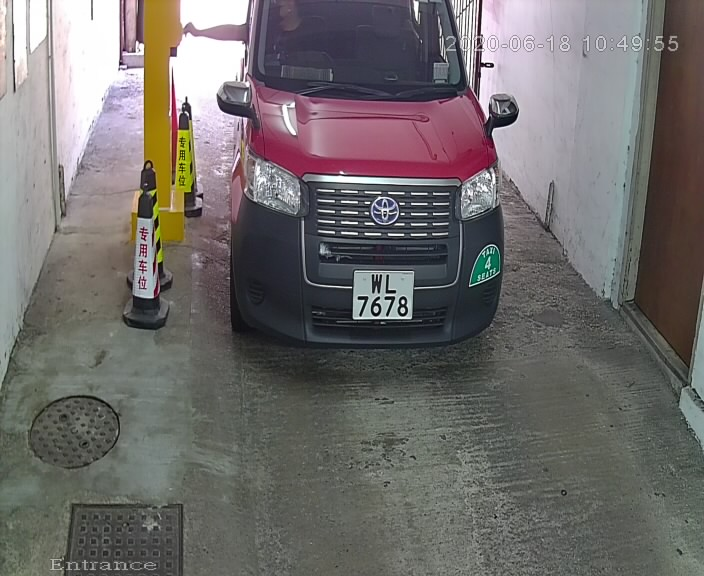taxi: (204, 2, 526, 386)
taxi_mark: (463, 236, 506, 293)
